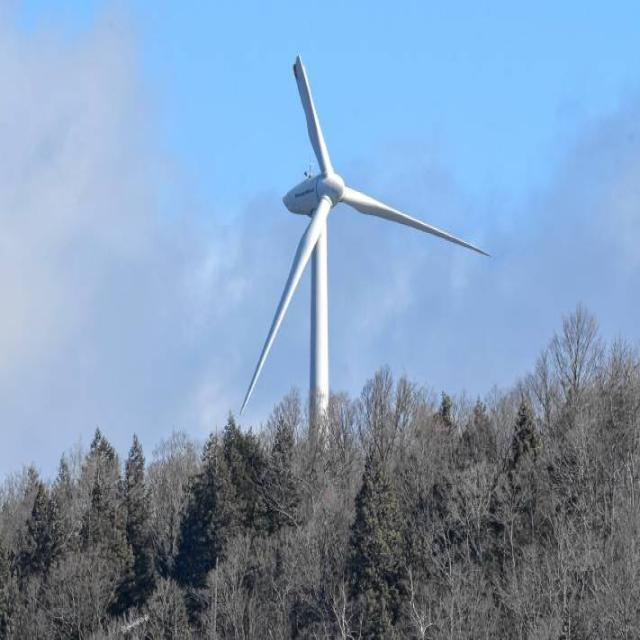damaged-blade: (294, 57, 334, 175)
solid-blade: (242, 197, 331, 411), (341, 187, 489, 255)
